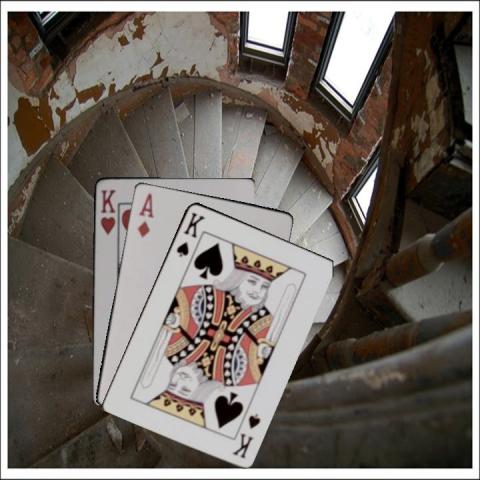Ad: (134, 190, 155, 240)
Kh: (97, 186, 117, 236)
Ks: (173, 209, 206, 258), (229, 410, 262, 459)
